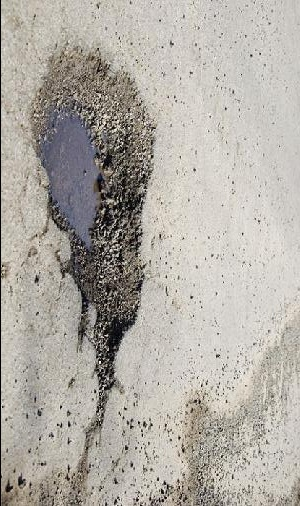pothole: (29, 45, 158, 379)
